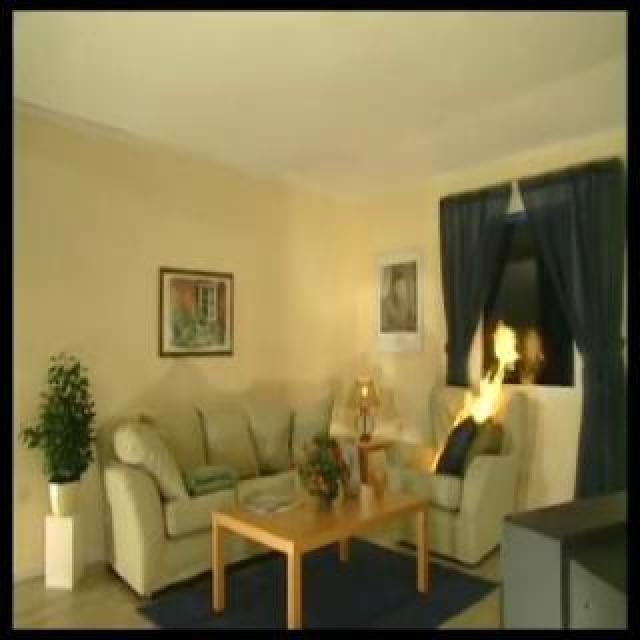fire: (453, 321, 519, 426)
